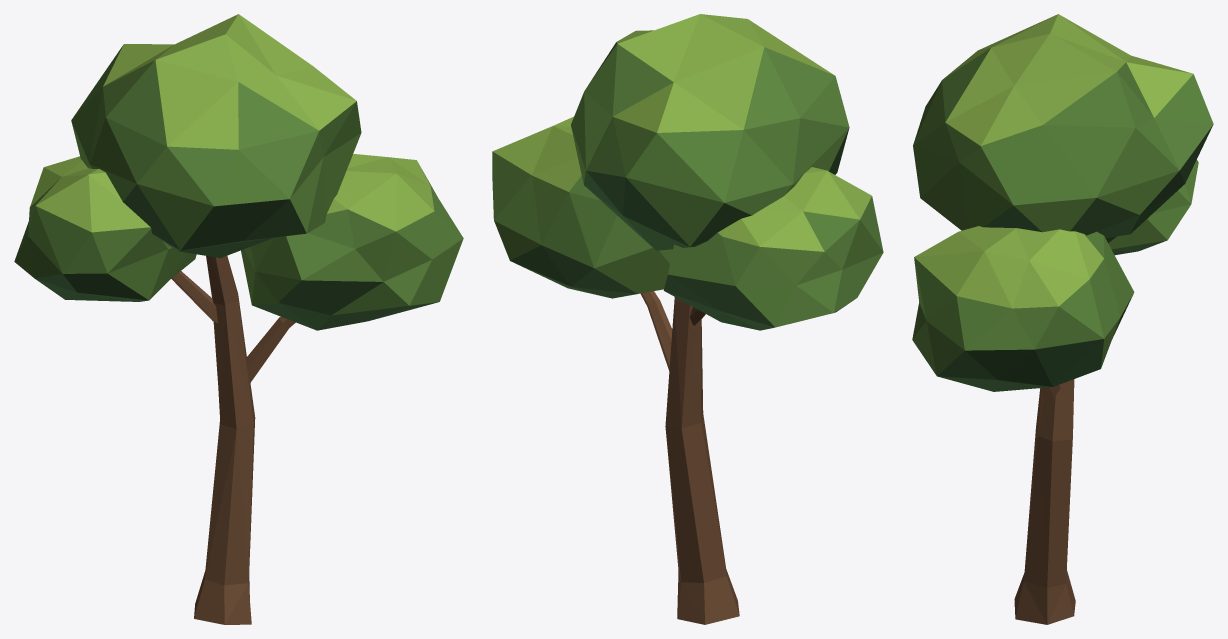
File: SM_Tree_Broad_A.fbx
The picture shows the model from 3 angles, left to right: view 1: azimuth 30°, elevation 25°; view 2: azimuth 150°, elevation 25°; view 3: azimuth 270°, elevation 25°; orthographic projection. The views are drawn at different scales.
Visible parts, largest first — view 1: SM_Tree_Broad_A; view 2: SM_Tree_Broad_A; view 3: SM_Tree_Broad_A.
Boxes of the visible parts, bbox=[...] form: SM_Tree_Broad_A: bbox=[14, 14, 463, 624]; SM_Tree_Broad_A: bbox=[492, 14, 883, 624]; SM_Tree_Broad_A: bbox=[912, 14, 1213, 624].
Size of the model in its own units: 4.54 by 6.62 by 3.11.
